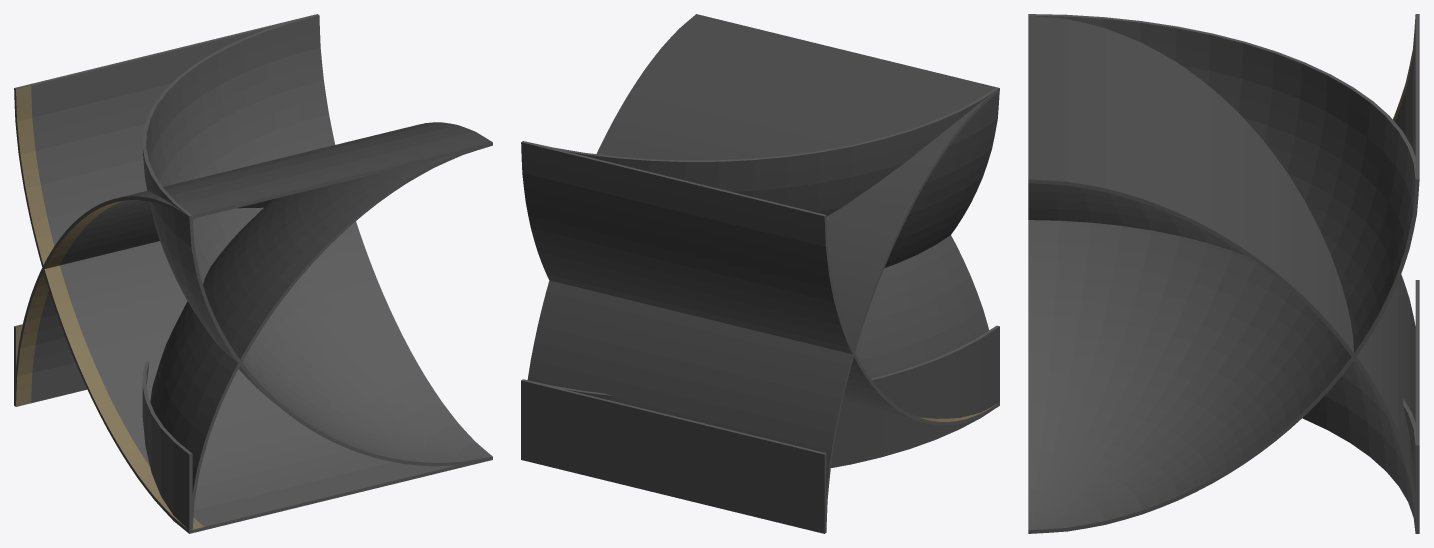
Rendered from wall_track.glb.
The picture shows the model from 3 angles, left to right: view 1: azimuth 30°, elevation 25°; view 2: azimuth 150°, elevation 25°; view 3: azimuth 270°, elevation 25°; orthographic projection. The views are drawn at different scales.
Visible parts, largest first — view 1: BottomCorner, Bottom, TopCorner, Top, MiddleCorner; view 2: Top, Bottom, Middle, BottomCorner, MiddleCorner, TopCorner; view 3: BottomCorner, Top, TopCorner, Bottom, Middle, MiddleCorner.
Boxes of the visible parts, x1,y1,x2,y2 form: BottomCorner: [142, 15, 492, 466]; Bottom: [14, 14, 490, 533]; TopCorner: [150, 146, 489, 527]; Top: [16, 122, 492, 406]; MiddleCorner: [142, 361, 192, 533]; Top: [527, 14, 999, 531]; Bottom: [521, 141, 999, 425]; Middle: [521, 380, 826, 533]; BottomCorner: [528, 87, 999, 267]; MiddleCorner: [522, 325, 999, 467]; TopCorner: [855, 235, 988, 378]; BottomCorner: [1028, 14, 1415, 530]; Top: [1028, 15, 1415, 489]; TopCorner: [1028, 182, 1419, 533]; Bottom: [1028, 14, 1419, 533]; Middle: [1415, 280, 1419, 445]; MiddleCorner: [1403, 399, 1419, 531].
Bounding box in the file's own units: 20 × 20 × 20.
